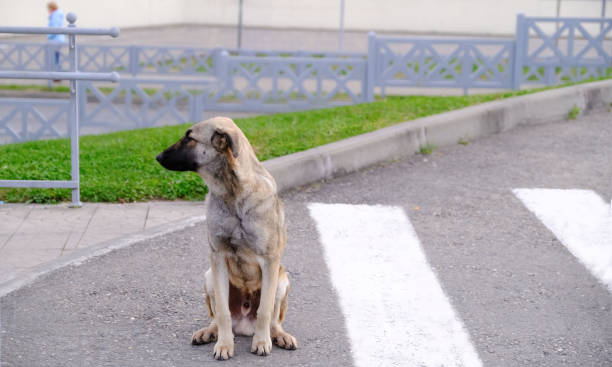kopek: (142, 108, 308, 363)
